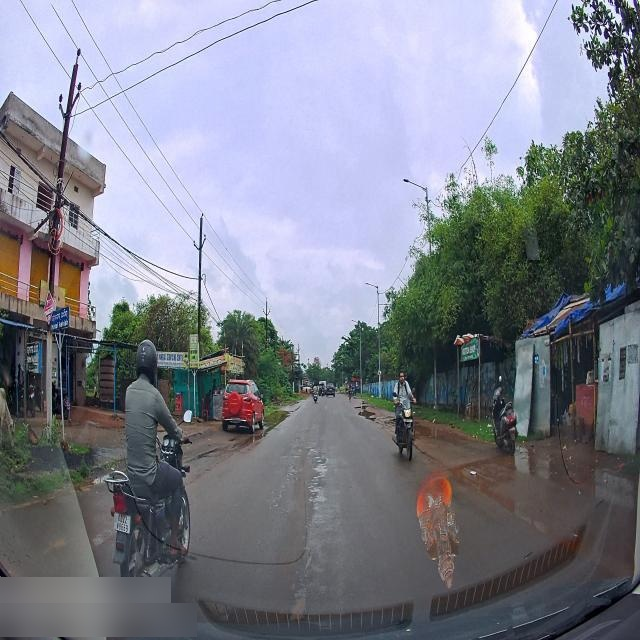pothole: (305, 484, 329, 509), (296, 581, 308, 617), (314, 457, 329, 478), (305, 442, 318, 454)
